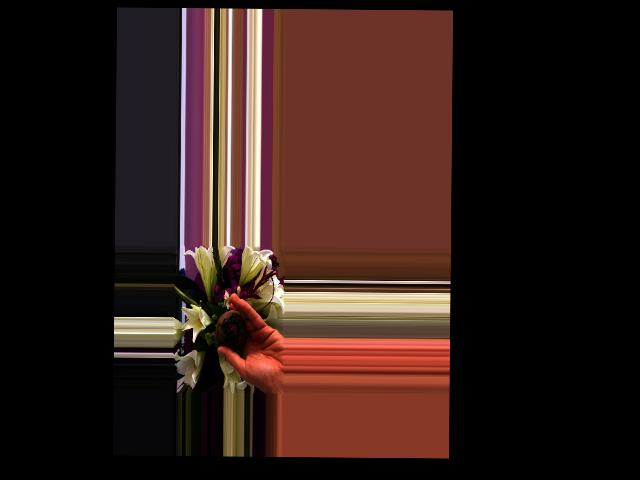beet: (215, 309, 248, 349)
